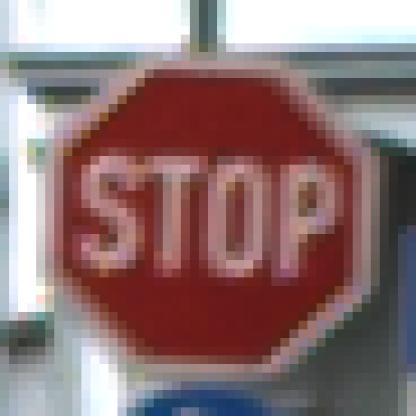Stop: (53, 64, 365, 375)
